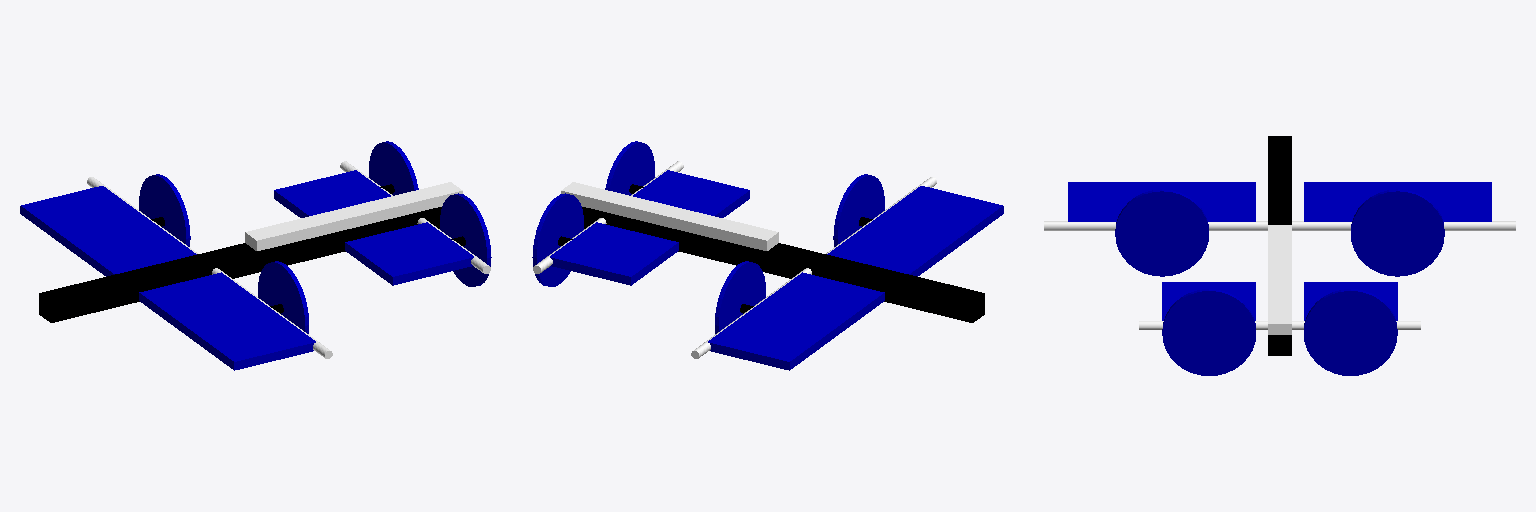
URDF robot description (quad_tilt_wing):
<?xml version="1.0" ?>
<!-- =================================================================================== -->
<!-- |    This document was autogenerated by xacro from quad_tilt_wing.urdf.xacro      | -->
<!-- |    EDITING THIS FILE BY HAND IS NOT RECOMMENDED                                 | -->
<!-- =================================================================================== -->
<robot name="quad_tilt_wing" xmlns:xacro="http://ros.org/wiki/xacro">
  <!--
  <xacro:property name="pi" value="3.1415926"/>
-->
  <material name="blue">
    <color rgba="0 0 0.8 1"/>
  </material>
  <material name="black">
    <color rgba="0 0 0 1"/>
  </material>
  <material name="white">
    <color rgba="1 1 1 1"/>
  </material>
  <material name="blue_trans">
    <color rgba="0 0 0.8 0.5"/>
  </material>
  <link name="fuselage">
    <inertial>
      <mass value="0.1"/>
      <origin xyz="0 0 0"/>
      <inertia ixx="0.01" ixy="0.0" ixz="0.0" iyy="0.01" iyz="0.0" izz="0.01"/>
    </inertial>
    <visual>
      <geometry>
        <box size="1 0.05 0.05"/>
      </geometry>
      <material name="black"/>
    </visual>
  </link>
  <link name="top_indicator">
    <inertial>
      <mass value="0.1"/>
      <origin xyz="0 0 0"/>
      <inertia ixx="0.01" ixy="0.0" ixz="0.0" iyy="0.01" iyz="0.0" izz="0.01"/>
    </inertial>
    <visual>
      <geometry>
        <box size="0.5 0.05 0.025"/>
      </geometry>
      <material name="white"/>
    </visual>
  </link>
  <joint name="top_to_fuselage" type="fixed">
    <parent link="fuselage"/>
    <child link="top_indicator"/>
    <origin xyz="0.25 0 0.0375"/>
  </joint>
  <link name="wing_1_rod">
    <inertial>
      <mass value="0.1"/>
      <origin xyz="0 0 0"/>
      <inertia ixx="0.01" ixy="0.0" ixz="0.0" iyy="0.01" iyz="0.0" izz="0.01"/>
    </inertial>
    <visual>
      <geometry>
        <cylinder length="0.3" radius="0.01"/>
      </geometry>
      <origin rpy="1.57079632679 0 0" xyz="0 0.15 0"/>
      <material name="white"/>
    </visual>
  </link>
  <joint name="wing_1_joint" type="revolute">
    <axis xyz="0 1 0"/>
    <limit effort="1000.0" lower="-2.09439510239" upper="0.523598775598" velocity="0.5"/>
    <parent link="fuselage"/>
    <child link="wing_1_rod"/>
    <origin xyz="0.4 0 0"/>
  </joint>
  <link name="wing_1_wing">
    <inertial>
      <mass value="0.1"/>
      <origin xyz="0 0 0"/>
      <inertia ixx="0.01" ixy="0.0" ixz="0.0" iyy="0.01" iyz="0.0" izz="0.01"/>
    </inertial>
    <visual>
      <geometry>
        <box size="0.2 0.2 0.02"/>
      </geometry>
      <origin rpy="0 0 0" xyz="-0.1 0 0"/>
      <material name="blue"/>
    </visual>
  </link>
  <joint name="wing_1_wing_to_rod" type="fixed">
    <parent link="wing_1_rod"/>
    <child link="wing_1_wing"/>
    <origin xyz="0 0.15 0"/>
  </joint>
  <link name="wing_1_motor">
    <inertial>
      <mass value="0.1"/>
      <origin xyz="0 0 0"/>
      <inertia ixx="0.01" ixy="0.0" ixz="0.0" iyy="0.01" iyz="0.0" izz="0.01"/>
    </inertial>
    <visual>
      <geometry>
        <cylinder length="0.03" radius="0.01"/>
      </geometry>
      <origin rpy="0 1.57079632679 0" xyz="0.015 0 0"/>
      <material name="black"/>
    </visual>
  </link>
  <joint name="wing_1_motor_to_rod" type="fixed">
    <parent link="wing_1_rod"/>
    <child link="wing_1_motor"/>
    <origin xyz="0 0.15 0"/>
  </joint>
  <link name="wing_1_prop">
    <inertial>
      <mass value="0.1"/>
      <origin xyz="0 0 0"/>
      <inertia ixx="0.01" ixy="0.0" ixz="0.0" iyy="0.01" iyz="0.0" izz="0.01"/>
    </inertial>
    <visual>
      <geometry>
        <cylinder length="0.01" radius="0.1"/>
      </geometry>
      <origin rpy="0 1.57079632679 0" xyz="0.005 0 0"/>
      <material name="blue_trans"/>
    </visual>
  </link>
  <joint name="wing_1_prop_to_motor" type="fixed">
    <parent link="wing_1_motor"/>
    <child link="wing_1_prop"/>
    <origin xyz="0.03 0 0"/>
  </joint>
  <link name="wing_2_rod">
    <inertial>
      <mass value="0.1"/>
      <origin xyz="0 0 0"/>
      <inertia ixx="0.01" ixy="0.0" ixz="0.0" iyy="0.01" iyz="0.0" izz="0.01"/>
    </inertial>
    <visual>
      <geometry>
        <cylinder length="0.3" radius="0.01"/>
      </geometry>
      <origin rpy="1.57079632679 0 0" xyz="0 -0.15 0"/>
      <material name="white"/>
    </visual>
  </link>
  <joint name="wing_2_joint" type="revolute">
    <axis xyz="0 1 0"/>
    <limit effort="1000.0" lower="-2.09439510239" upper="0.523598775598" velocity="0.5"/>
    <parent link="fuselage"/>
    <child link="wing_2_rod"/>
    <origin xyz="0.4 0 0"/>
  </joint>
  <link name="wing_2_wing">
    <inertial>
      <mass value="0.1"/>
      <origin xyz="0 0 0"/>
      <inertia ixx="0.01" ixy="0.0" ixz="0.0" iyy="0.01" iyz="0.0" izz="0.01"/>
    </inertial>
    <visual>
      <geometry>
        <box size="0.2 0.2 0.02"/>
      </geometry>
      <origin rpy="0 0 0" xyz="-0.1 0 0"/>
      <material name="blue"/>
    </visual>
  </link>
  <joint name="wing_2_wing_to_rod" type="fixed">
    <parent link="wing_2_rod"/>
    <child link="wing_2_wing"/>
    <origin xyz="0 -0.15 0"/>
  </joint>
  <link name="wing_2_motor">
    <inertial>
      <mass value="0.1"/>
      <origin xyz="0 0 0"/>
      <inertia ixx="0.01" ixy="0.0" ixz="0.0" iyy="0.01" iyz="0.0" izz="0.01"/>
    </inertial>
    <visual>
      <geometry>
        <cylinder length="0.03" radius="0.01"/>
      </geometry>
      <origin rpy="0 1.57079632679 0" xyz="0.015 0 0"/>
      <material name="black"/>
    </visual>
  </link>
  <joint name="wing_2_motor_to_rod" type="fixed">
    <parent link="wing_2_rod"/>
    <child link="wing_2_motor"/>
    <origin xyz="0 -0.15 0"/>
  </joint>
  <link name="wing_2_prop">
    <inertial>
      <mass value="0.1"/>
      <origin xyz="0 0 0"/>
      <inertia ixx="0.01" ixy="0.0" ixz="0.0" iyy="0.01" iyz="0.0" izz="0.01"/>
    </inertial>
    <visual>
      <geometry>
        <cylinder length="0.01" radius="0.1"/>
      </geometry>
      <origin rpy="0 1.57079632679 0" xyz="0.005 0 0"/>
      <material name="blue_trans"/>
    </visual>
  </link>
  <joint name="wing_2_prop_to_motor" type="fixed">
    <parent link="wing_2_motor"/>
    <child link="wing_2_prop"/>
    <origin xyz="0.03 0 0"/>
  </joint>
  <link name="wing_3_rod">
    <inertial>
      <mass value="0.1"/>
      <origin xyz="0 0 0"/>
      <inertia ixx="0.01" ixy="0.0" ixz="0.0" iyy="0.01" iyz="0.0" izz="0.01"/>
    </inertial>
    <visual>
      <geometry>
        <cylinder length="0.5" radius="0.01"/>
      </geometry>
      <origin rpy="1.57079632679 0 0" xyz="0 0.25 0"/>
      <material name="white"/>
    </visual>
  </link>
  <joint name="wing_3_joint" type="revolute">
    <axis xyz="0 1 0"/>
    <limit effort="1000.0" lower="-2.09439510239" upper="0.523598775598" velocity="0.5"/>
    <parent link="fuselage"/>
    <child link="wing_3_rod"/>
    <origin xyz="-0.1 0 0"/>
  </joint>
  <link name="wing_3_wing">
    <inertial>
      <mass value="0.1"/>
      <origin xyz="0 0 0"/>
      <inertia ixx="0.01" ixy="0.0" ixz="0.0" iyy="0.01" iyz="0.0" izz="0.01"/>
    </inertial>
    <visual>
      <geometry>
        <box size="0.2 0.4 0.02"/>
      </geometry>
      <origin rpy="0 0 0" xyz="-0.1 0 0"/>
      <material name="blue"/>
    </visual>
  </link>
  <joint name="wing_3_wing_to_rod" type="fixed">
    <parent link="wing_3_rod"/>
    <child link="wing_3_wing"/>
    <origin xyz="0 0.25 0"/>
  </joint>
  <link name="wing_3_motor">
    <inertial>
      <mass value="0.1"/>
      <origin xyz="0 0 0"/>
      <inertia ixx="0.01" ixy="0.0" ixz="0.0" iyy="0.01" iyz="0.0" izz="0.01"/>
    </inertial>
    <visual>
      <geometry>
        <cylinder length="0.03" radius="0.01"/>
      </geometry>
      <origin rpy="0 1.57079632679 0" xyz="0.015 0 0"/>
      <material name="black"/>
    </visual>
  </link>
  <joint name="wing_3_motor_to_rod" type="fixed">
    <parent link="wing_3_rod"/>
    <child link="wing_3_motor"/>
    <origin xyz="0 0.25 0"/>
  </joint>
  <link name="wing_3_prop">
    <inertial>
      <mass value="0.1"/>
      <origin xyz="0 0 0"/>
      <inertia ixx="0.01" ixy="0.0" ixz="0.0" iyy="0.01" iyz="0.0" izz="0.01"/>
    </inertial>
    <visual>
      <geometry>
        <cylinder length="0.01" radius="0.1"/>
      </geometry>
      <origin rpy="0 1.57079632679 0" xyz="0.005 0 0"/>
      <material name="blue_trans"/>
    </visual>
  </link>
  <joint name="wing_3_prop_to_motor" type="fixed">
    <parent link="wing_3_motor"/>
    <child link="wing_3_prop"/>
    <origin xyz="0.03 0 0"/>
  </joint>
  <link name="wing_4_rod">
    <inertial>
      <mass value="0.1"/>
      <origin xyz="0 0 0"/>
      <inertia ixx="0.01" ixy="0.0" ixz="0.0" iyy="0.01" iyz="0.0" izz="0.01"/>
    </inertial>
    <visual>
      <geometry>
        <cylinder length="0.5" radius="0.01"/>
      </geometry>
      <origin rpy="1.57079632679 0 0" xyz="0 -0.25 0"/>
      <material name="white"/>
    </visual>
  </link>
  <joint name="wing_4_joint" type="revolute">
    <axis xyz="0 1 0"/>
    <limit effort="1000.0" lower="-2.09439510239" upper="0.523598775598" velocity="0.5"/>
    <parent link="fuselage"/>
    <child link="wing_4_rod"/>
    <origin xyz="-0.1 0 0"/>
  </joint>
  <link name="wing_4_wing">
    <inertial>
      <mass value="0.1"/>
      <origin xyz="0 0 0"/>
      <inertia ixx="0.01" ixy="0.0" ixz="0.0" iyy="0.01" iyz="0.0" izz="0.01"/>
    </inertial>
    <visual>
      <geometry>
        <box size="0.2 0.4 0.02"/>
      </geometry>
      <origin rpy="0 0 0" xyz="-0.1 0 0"/>
      <material name="blue"/>
    </visual>
  </link>
  <joint name="wing_4_wing_to_rod" type="fixed">
    <parent link="wing_4_rod"/>
    <child link="wing_4_wing"/>
    <origin xyz="0 -0.25 0"/>
  </joint>
  <link name="wing_4_motor">
    <inertial>
      <mass value="0.1"/>
      <origin xyz="0 0 0"/>
      <inertia ixx="0.01" ixy="0.0" ixz="0.0" iyy="0.01" iyz="0.0" izz="0.01"/>
    </inertial>
    <visual>
      <geometry>
        <cylinder length="0.03" radius="0.01"/>
      </geometry>
      <origin rpy="0 1.57079632679 0" xyz="0.015 0 0"/>
      <material name="black"/>
    </visual>
  </link>
  <joint name="wing_4_motor_to_rod" type="fixed">
    <parent link="wing_4_rod"/>
    <child link="wing_4_motor"/>
    <origin xyz="0 -0.25 0"/>
  </joint>
  <link name="wing_4_prop">
    <inertial>
      <mass value="0.1"/>
      <origin xyz="0 0 0"/>
      <inertia ixx="0.01" ixy="0.0" ixz="0.0" iyy="0.01" iyz="0.0" izz="0.01"/>
    </inertial>
    <visual>
      <geometry>
        <cylinder length="0.01" radius="0.1"/>
      </geometry>
      <origin rpy="0 1.57079632679 0" xyz="0.005 0 0"/>
      <material name="blue_trans"/>
    </visual>
  </link>
  <joint name="wing_4_prop_to_motor" type="fixed">
    <parent link="wing_4_motor"/>
    <child link="wing_4_prop"/>
    <origin xyz="0.03 0 0"/>
  </joint>
</robot>

--- Render facts (derived) ---
Views: 3 orthographic renders of the robot side by side, from view 1: azimuth 30°, elevation 25°; view 2: azimuth 150°, elevation 25°; view 3: azimuth 270°, elevation 25°.
Model quad_tilt_wing with 18 links and 17 joints (4 revolute, 13 fixed), rooted at fuselage, posed every joint at zero.
Links seen in each view (by area): view 1: fuselage, wing_4_wing, wing_3_wing, wing_2_wing, top_indicator, wing_1_wing, wing_2_prop, wing_4_prop, wing_3_prop, wing_1_prop; view 2: fuselage, wing_3_wing, wing_4_wing, wing_1_wing, top_indicator, wing_2_wing, wing_1_prop, wing_3_prop, wing_4_prop, wing_2_prop; view 3: wing_1_prop, wing_2_prop, wing_3_prop, wing_4_prop, wing_3_wing, wing_4_wing, fuselage, top_indicator, wing_1_wing, wing_2_wing, wing_3_rod, wing_4_rod.
Boxes of the visible links, bbox=[...] form: fuselage: bbox=[39, 207, 441, 322]; wing_4_wing: bbox=[139, 272, 315, 370]; wing_3_wing: bbox=[20, 186, 196, 276]; wing_2_wing: bbox=[345, 222, 473, 285]; top_indicator: bbox=[245, 182, 462, 250]; wing_1_wing: bbox=[274, 170, 390, 217]; wing_2_prop: bbox=[440, 193, 491, 286]; wing_4_prop: bbox=[258, 261, 308, 333]; wing_3_prop: bbox=[139, 174, 190, 246]; wing_1_prop: bbox=[369, 141, 418, 195]; fuselage: bbox=[582, 207, 984, 322]; wing_3_wing: bbox=[708, 272, 884, 370]; wing_4_wing: bbox=[827, 186, 1003, 276]; wing_1_wing: bbox=[550, 222, 678, 285]; top_indicator: bbox=[561, 182, 778, 250]; wing_2_wing: bbox=[633, 170, 749, 217]; wing_1_prop: bbox=[532, 193, 583, 286]; wing_3_prop: bbox=[715, 261, 765, 333]; wing_4_prop: bbox=[833, 174, 884, 246]; wing_2_prop: bbox=[605, 141, 654, 195]; wing_1_prop: bbox=[1304, 289, 1397, 375]; wing_2_prop: bbox=[1162, 289, 1255, 375]; wing_3_prop: bbox=[1351, 189, 1444, 276]; wing_4_prop: bbox=[1115, 189, 1208, 276]; wing_3_wing: bbox=[1304, 182, 1491, 221]; wing_4_wing: bbox=[1068, 182, 1255, 221]; fuselage: bbox=[1268, 136, 1291, 355]; top_indicator: bbox=[1268, 225, 1291, 334]; wing_1_wing: bbox=[1304, 282, 1397, 320]; wing_2_wing: bbox=[1162, 282, 1255, 320]; wing_3_rod: bbox=[1292, 221, 1515, 230]; wing_4_rod: bbox=[1044, 221, 1267, 230].
Bounding box of the posed robot: 1 × 1 × 0.2 m (x, y, z).
Geometry: primitives only (box / cylinder / sphere), no mesh files.